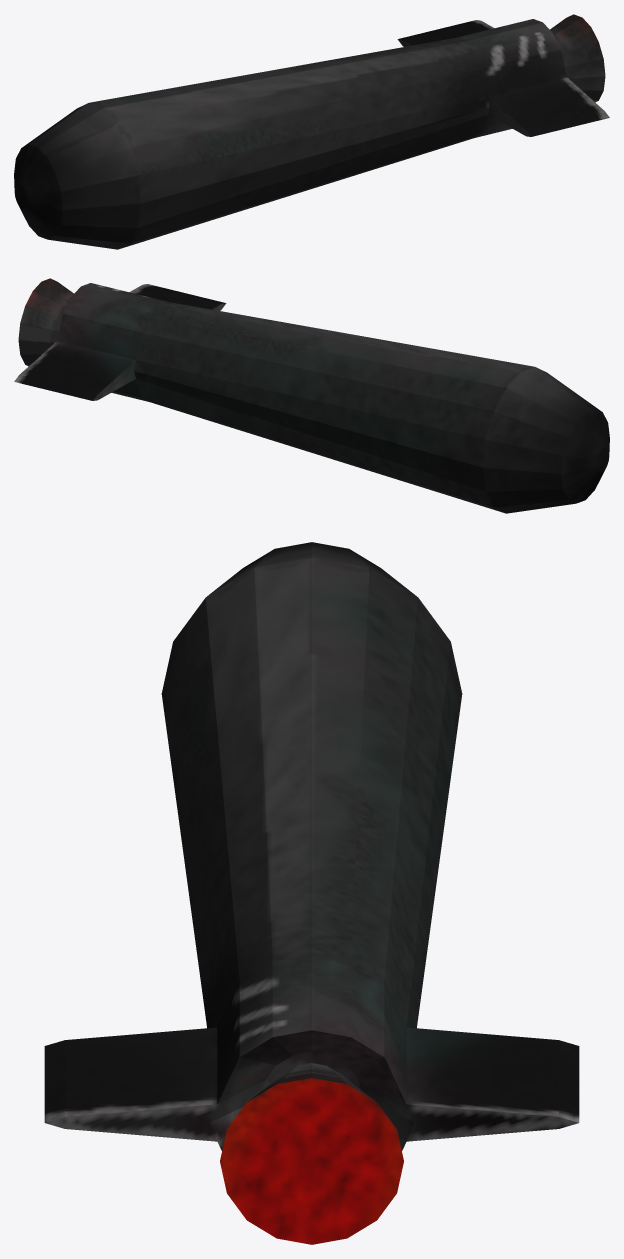
The model's file is torpedo.fbx.
The picture shows the model from 3 angles, top to bottom: view 1: azimuth 30°, elevation 25°; view 2: azimuth 150°, elevation 25°; view 3: azimuth 270°, elevation 25°; orthographic projection. The views are drawn at different scales.
Parts seen in each view (by area): view 1: Cylinder; view 2: Cylinder; view 3: Cylinder.
Part boxes in pixels (bbox=[...]): Cylinder: bbox=[14, 14, 609, 249]; Cylinder: bbox=[14, 278, 609, 513]; Cylinder: bbox=[44, 542, 579, 1244].
Size of the model in its own units: 393 by 91.17 by 162.
